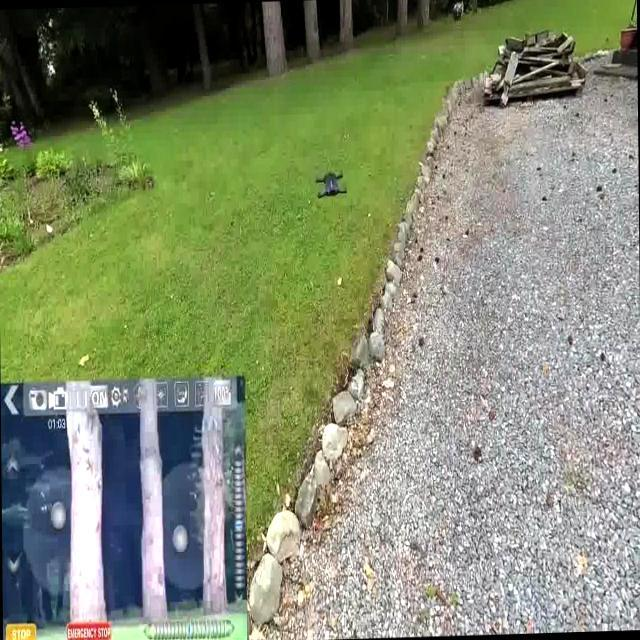drone: (312, 170, 350, 200)
